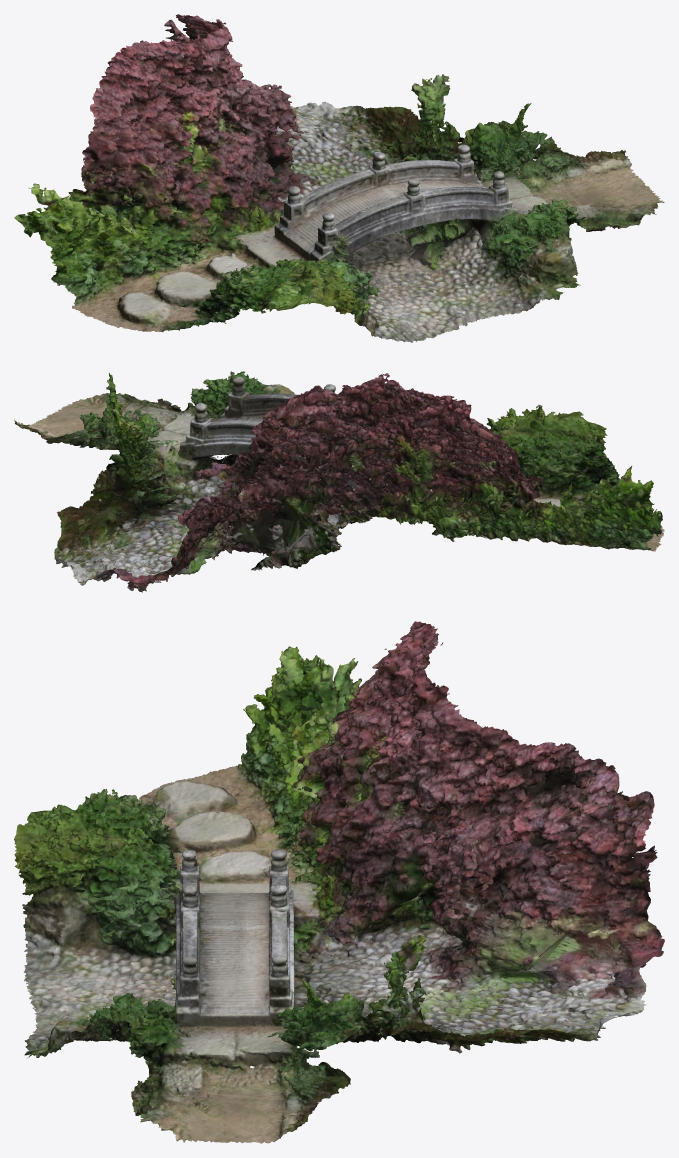
The model's file is model_bridge_and_japanese_garden_2650.glb.
3 renders of one model, top to bottom at view 1: azimuth 30°, elevation 25°; view 2: azimuth 150°, elevation 25°; view 3: azimuth 270°, elevation 25°, orthographic. The views are drawn at different scales.
Visible parts, largest first — view 1: Object_4, Object_3, Object_6, Object_5, Object_7, Object_8; view 2: Object_6, Object_3, Object_4, Object_5, Object_7, Object_8; view 3: Object_3, Object_4, Object_6, Object_5, Object_7, Object_8.
Boxes of the visible parts, <box> form: Object_4: <box>57,33,659,342</box>; Object_3: <box>54,15,660,342</box>; Object_6: <box>14,15,570,319</box>; Object_5: <box>17,14,568,317</box>; Object_7: <box>39,39,664,336</box>; Object_8: <box>51,106,582,331</box>; Object_6: <box>103,371,658,557</box>; Object_3: <box>46,373,664,592</box>; Object_4: <box>16,376,655,588</box>; Object_5: <box>100,379,662,531</box>; Object_7: <box>14,380,647,591</box>; Object_8: <box>81,382,661,541</box>; Object_3: <box>24,623,657,1142</box>; Object_4: <box>14,704,664,1143</box>; Object_6: <box>14,621,654,1034</box>; Object_5: <box>15,646,652,1030</box>; Object_7: <box>17,648,650,1143</box>; Object_8: <box>22,720,633,1057</box>.
Bounding box in the file's own units: 10.25 × 3.47 × 7.49.
Materials: 2 (2 with a texture image).
